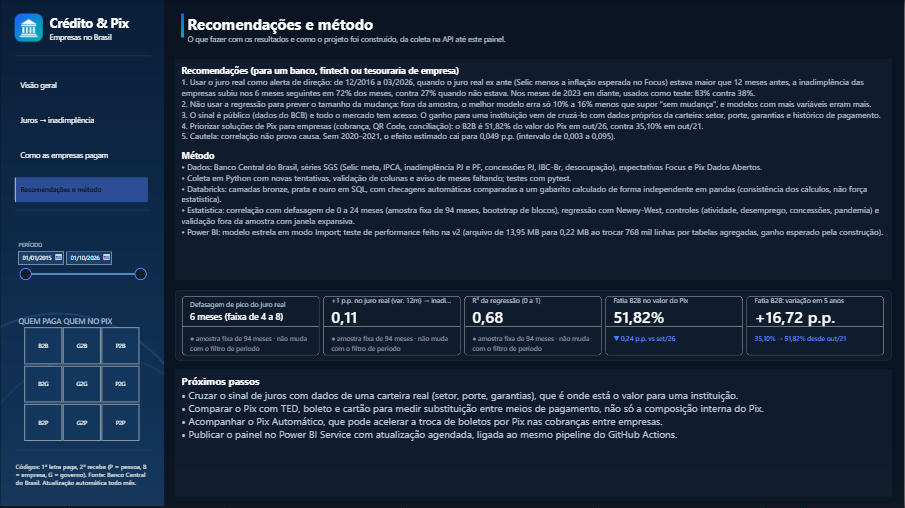

The page's visual inventory and layout, read from the dashboard file:
{"tool":"powerbi","page":{"name":"Recomendações e método","canvas":[1920,1080],"ordinal":3},"visuals":[{"type":"textbox","box":[372,126,1524,470],"z":0},{"type":"textbox","box":[92,20,250,92],"z":1},{"type":"pageNavigator","box":[18,142,312,300],"z":2},{"type":"slicer","fields":{"Values":["dCalendario.data"]},"box":[18,500,312,130],"z":3},{"type":"slicer","fields":{"Values":["dNatureza.natureza"]},"box":[18,660,312,290],"z":4},{"type":"textbox","box":[20,972,310,90],"z":5},{"type":"textbox","box":[384,18,1500,96],"z":6},{"type":"cardVisual","fields":{"Data":["gold_pix_natureza_mensal._Defasagem de pico (meses)","gold_pix_natureza_mensal._Efeito do juro real (p.p.)","gold_pix_natureza_mensal._R² da regressão","gold_pix_natureza_mensal._Participação B2B (último mês)","gold_pix_natureza_mensal._Variação B2B em 5 anos"]},"box":[372,616,1524,150],"z":7},{"type":"textbox","box":[372,784,1524,272],"z":8}]}

Visuals, with their boxes on the page's 1920x1080 design canvas (x1, y1, x2, y2). These are canvas units, not pixel positions in the 905x508 screenshot, which may show the page scaled, cropped or inside an application window:
textbox: [left=372, top=126, right=1896, bottom=596]
textbox: [left=92, top=20, right=342, bottom=112]
pageNavigator: [left=18, top=142, right=330, bottom=442]
slicer - dCalendario.data: [left=18, top=500, right=330, bottom=630]
slicer - dNatureza.natureza: [left=18, top=660, right=330, bottom=950]
textbox: [left=20, top=972, right=330, bottom=1062]
textbox: [left=384, top=18, right=1884, bottom=114]
cardVisual - gold_pix_natureza_mensal._Defasagem de pico (meses) x gold_pix_natureza_mensal._Efeito do juro real (p.p.): [left=372, top=616, right=1896, bottom=766]
textbox: [left=372, top=784, right=1896, bottom=1056]
